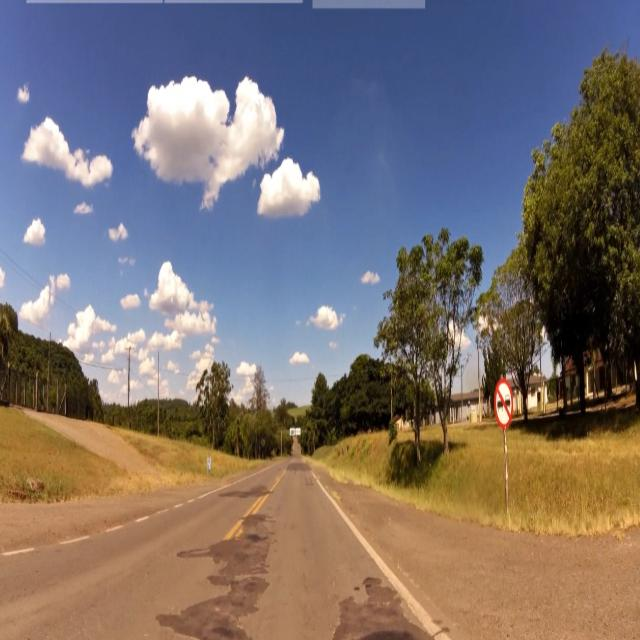R-7: (493, 377, 514, 433)
